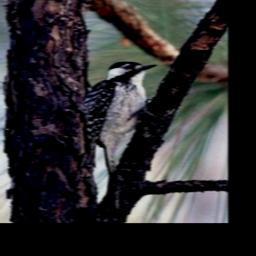Woodpecker: (83, 60, 160, 177)
